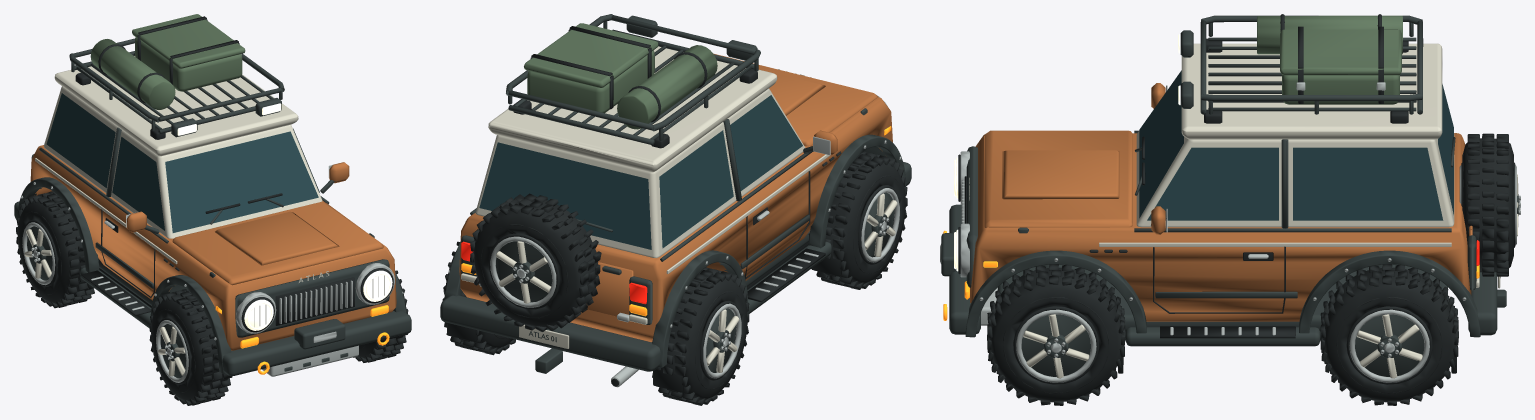
Rendered from atlas-expedition.glb.
3 views of the same model, side by side, from view 1: azimuth 30°, elevation 25°; view 2: azimuth 150°, elevation 25°; view 3: azimuth 270°, elevation 25° (orthographic). The views are drawn at different scales.
Parts seen in each view (by area): view 1: Body__Paint_Copper, Body__Graphite, Body__Smoked_Glass, Body__Roof_Ivory, Body__Canvas_Olive, Body__Rubber, Spinner_FL__Rubber, Spinner_RL__Rubber, Body__Brushed_Alloy, Body__Headlamp, Spinner_FR__Rubber, Spinner_RL__Brushed_Alloy (+6 smaller); view 2: Body__Graphite, Body__Paint_Copper, Body__Smoked_Glass, Body__Roof_Ivory, Body__Rubber, Body__Canvas_Olive, Spinner_RL__Rubber, Spinner_FL__Rubber, Body__Brushed_Alloy, Spinner_RR__Rubber, Spinner_FL__Brushed_Alloy, Spinner_RL__Brushed_Alloy (+5 smaller); view 3: Body__Paint_Copper, Body__Graphite, Body__Smoked_Glass, Body__Roof_Ivory, Body__Rubber, Spinner_RR__Rubber, Spinner_FR__Rubber, Body__Canvas_Olive, Spinner_FR__Graphite, Spinner_RR__Graphite, Body__Brushed_Alloy, Spinner_FR__Brushed_Alloy (+4 smaller).
Part boxes in pixels (<box>): Body__Paint_Copper: <box>30,145,396,350</box>; Body__Graphite: <box>14,38,411,376</box>; Body__Smoked_Glass: <box>46,93,319,232</box>; Body__Roof_Ivory: <box>35,56,384,326</box>; Body__Canvas_Olive: <box>90,14,245,109</box>; Body__Rubber: <box>20,16,393,355</box>; Spinner_FL__Rubber: <box>149,289,232,405</box>; Spinner_RL__Rubber: <box>16,191,99,308</box>; Body__Brushed_Alloy: <box>21,54,403,376</box>; Body__Headlamp: <box>177,103,392,330</box>; Spinner_FR__Rubber: <box>353,270,408,362</box>; Spinner_RL__Brushed_Alloy: <box>22,222,55,285</box>; Body__Graphite: <box>440,14,911,373</box>; Body__Paint_Copper: <box>459,53,892,342</box>; Body__Smoked_Glass: <box>479,95,802,249</box>; Body__Roof_Ivory: <box>461,46,829,348</box>; Body__Rubber: <box>447,26,841,392</box>; Body__Canvas_Olive: <box>524,23,717,129</box>; Spinner_RL__Rubber: <box>652,267,749,405</box>; Spinner_FL__Rubber: <box>808,151,907,289</box>; Body__Brushed_Alloy: <box>448,70,901,387</box>; Spinner_RR__Rubber: <box>442,241,515,355</box>; Spinner_FL__Brushed_Alloy: <box>861,188,899,262</box>; Spinner_RL__Brushed_Alloy: <box>703,303,741,378</box>; Body__Paint_Copper: <box>970,83,1472,321</box>; Body__Graphite: <box>941,15,1518,346</box>; Body__Smoked_Glass: <box>1139,70,1453,220</box>; Body__Roof_Ivory: <box>969,43,1518,288</box>; Body__Rubber: <box>958,14,1515,373</box>; Spinner_RR__Rubber: <box>1320,264,1458,405</box>; Spinner_FR__Rubber: <box>987,264,1125,405</box>; Body__Canvas_Olive: <box>1257,15,1402,104</box>; Spinner_FR__Graphite: <box>1021,314,1090,376</box>; Spinner_RR__Graphite: <box>1355,314,1424,376</box>; Body__Brushed_Alloy: <box>940,82,1520,335</box>; Spinner_FR__Brushed_Alloy: <box>1016,309,1096,382</box>.
Size of the model in its own units: 2.62 by 2.82 by 4.77.
